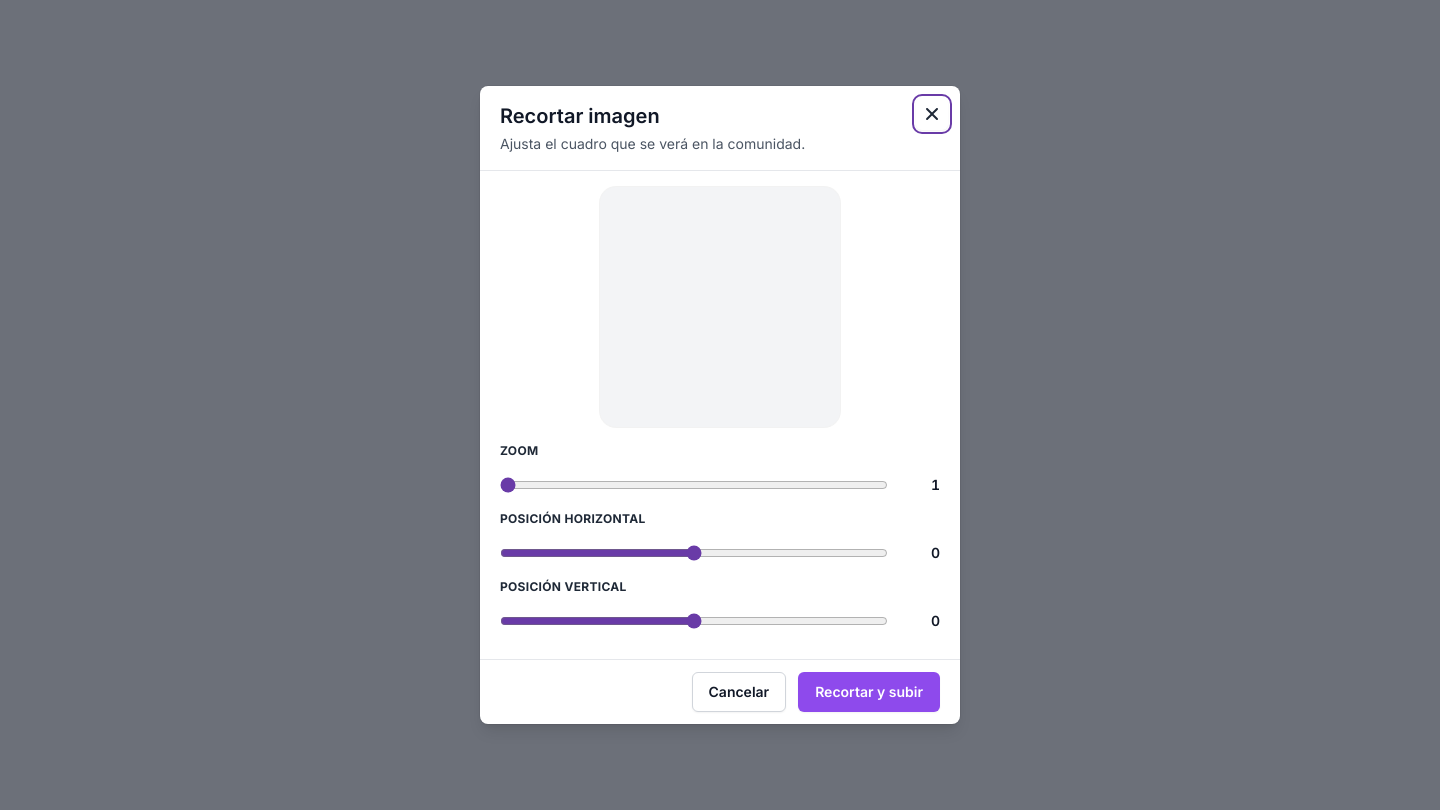
ImageCropDialog › shows an error when encoding yields no blob
The width and height of the screenshot is (1440, 810).
Click the button "Recortar y subir".
click(869, 692)  # box left=798, top=672, right=940, bottom=712
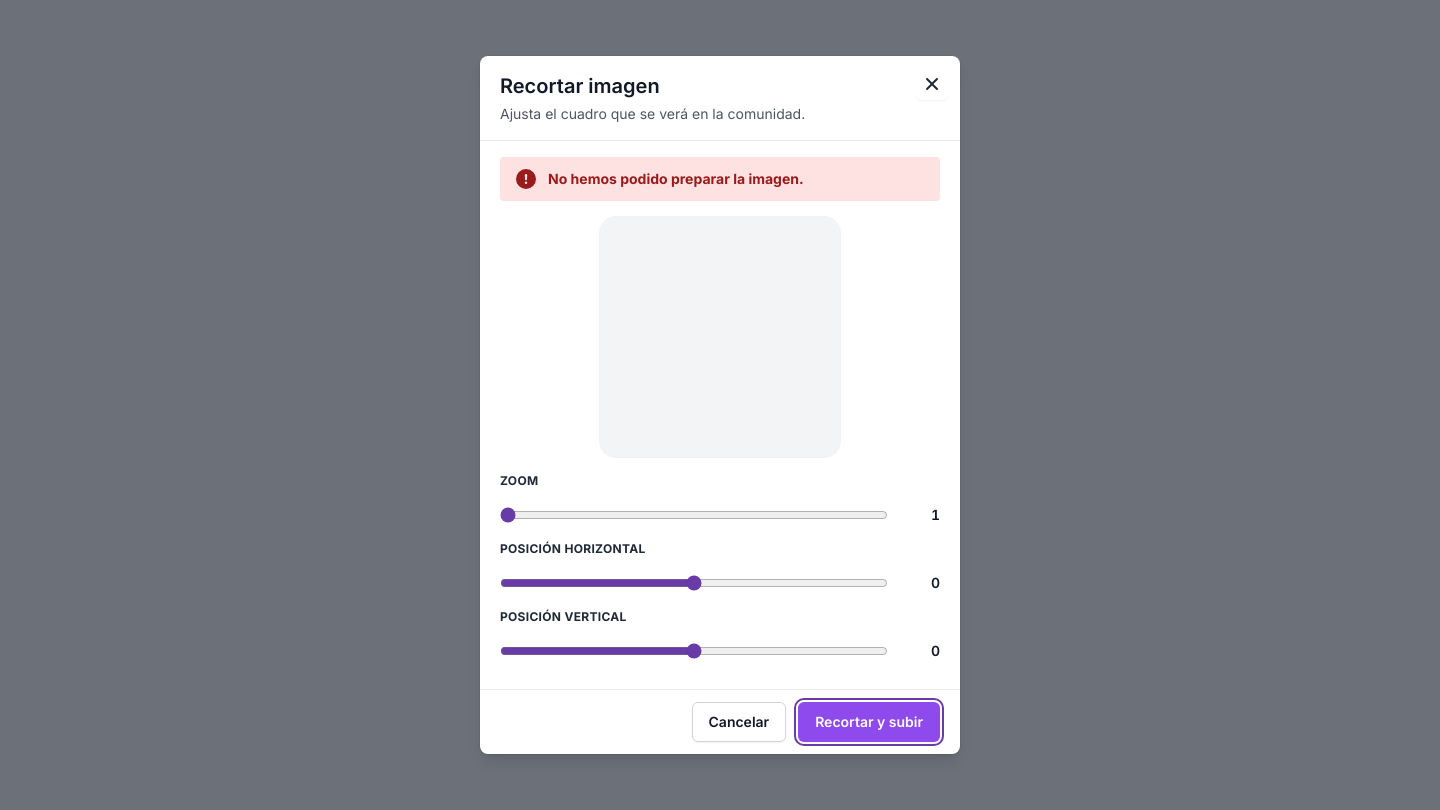
Expected: the message "No hemos podido preparar la imagen." is shown, left=500, top=157, right=940, bottom=201
